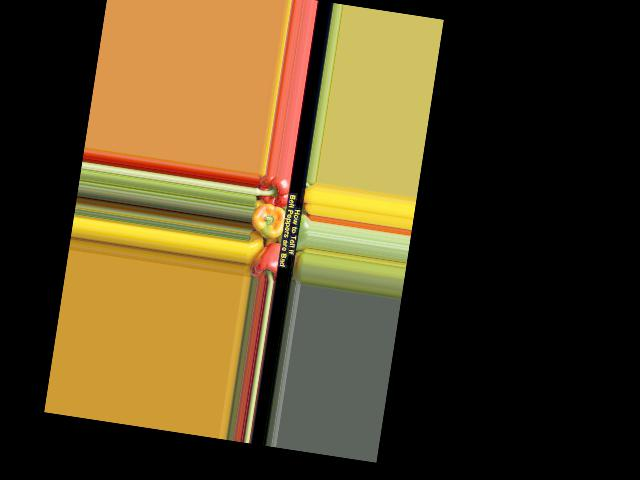bell_pepper: (254, 175, 292, 210)
